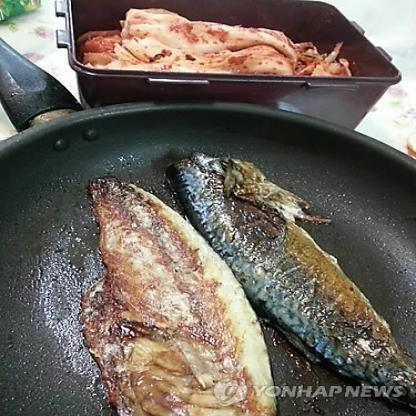Peixe: (56, 150, 393, 416)
